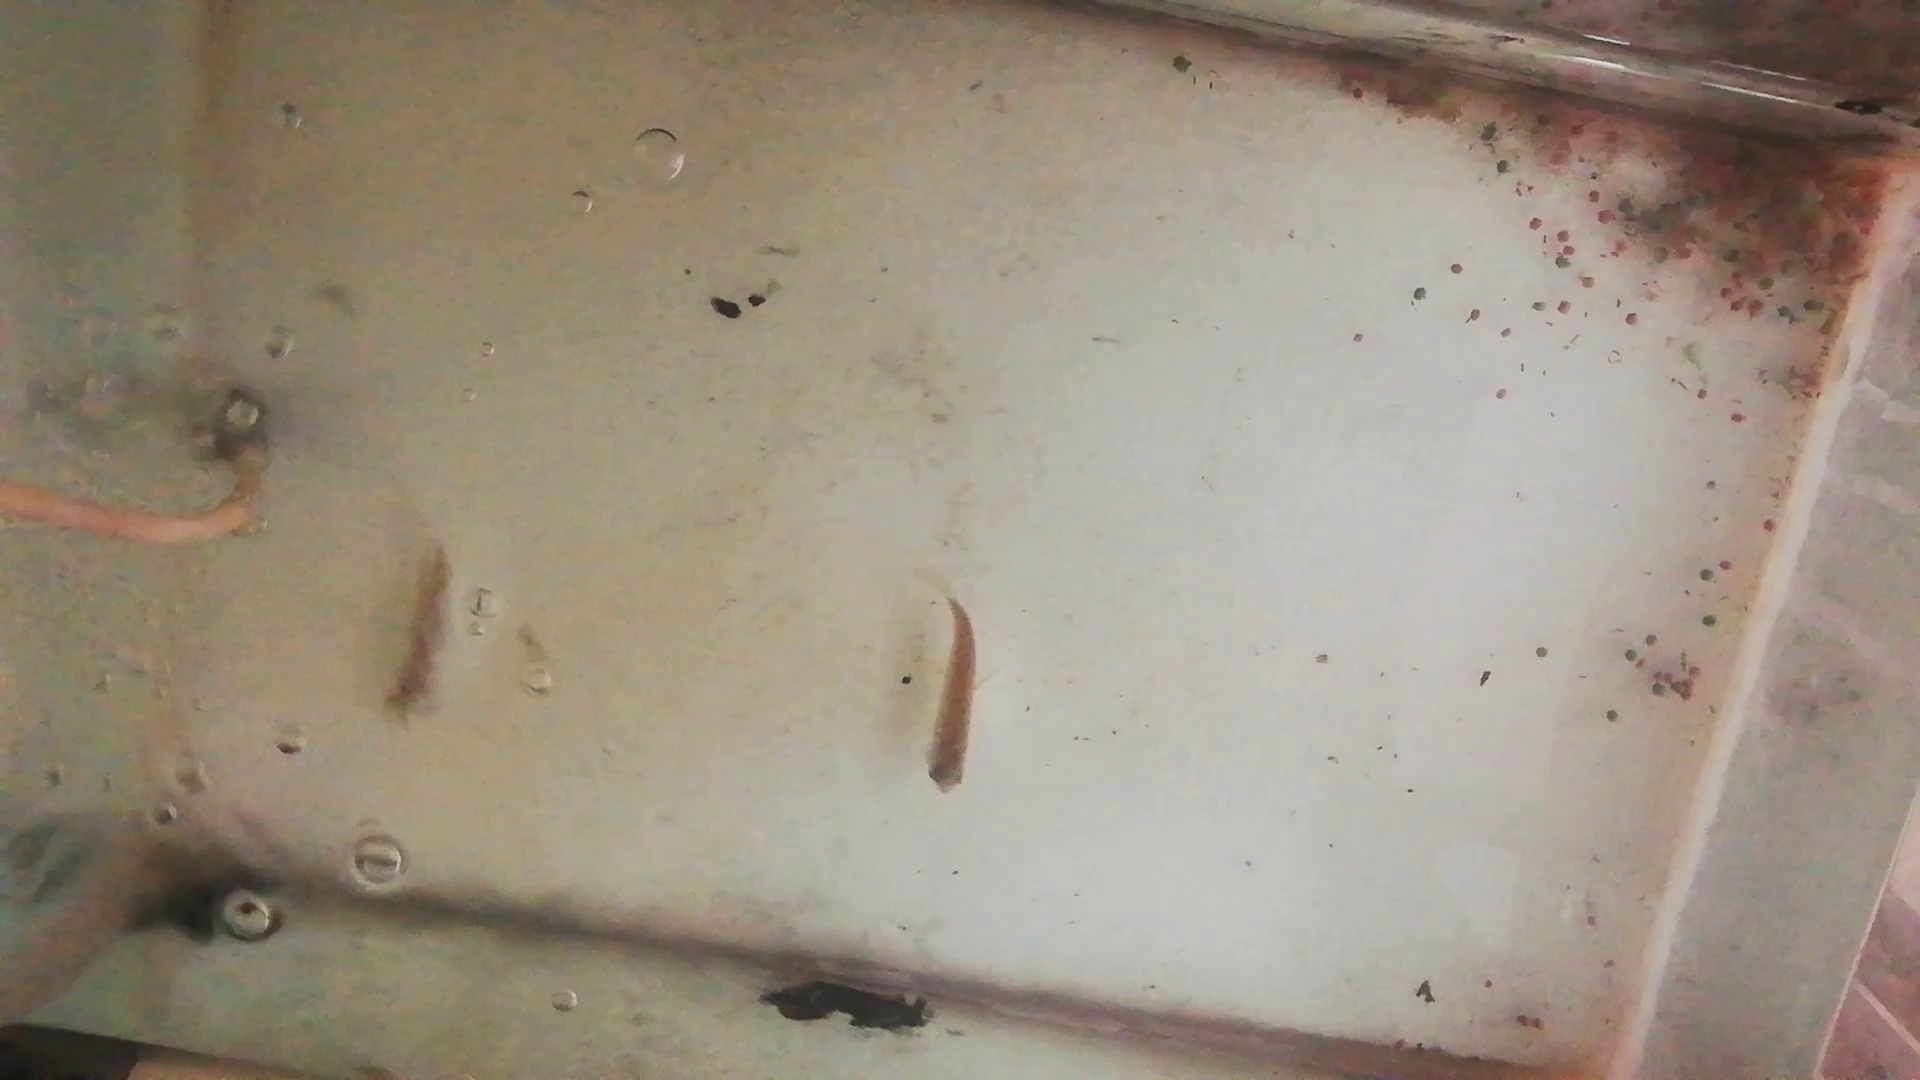fish: (382, 545, 452, 727), (928, 593, 980, 795)
